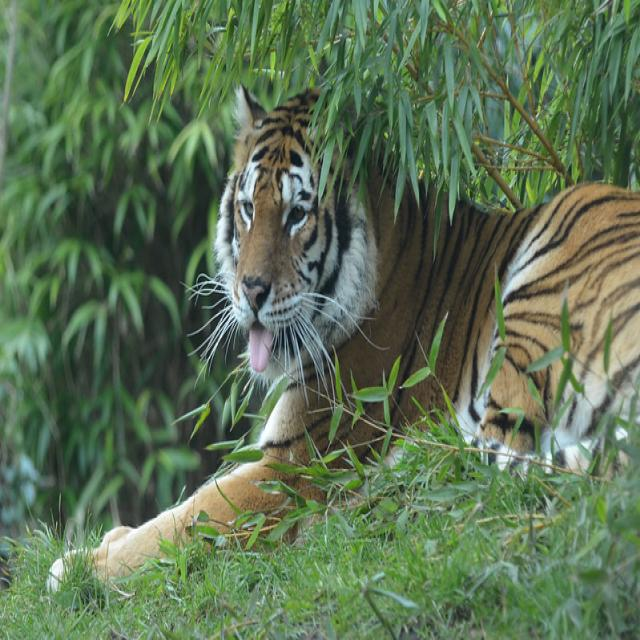Tiger: (47, 81, 639, 595)
